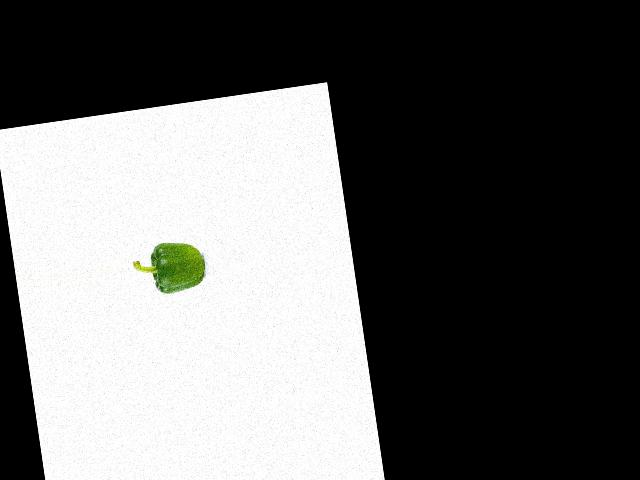bell_pepper: (132, 236, 209, 305)
